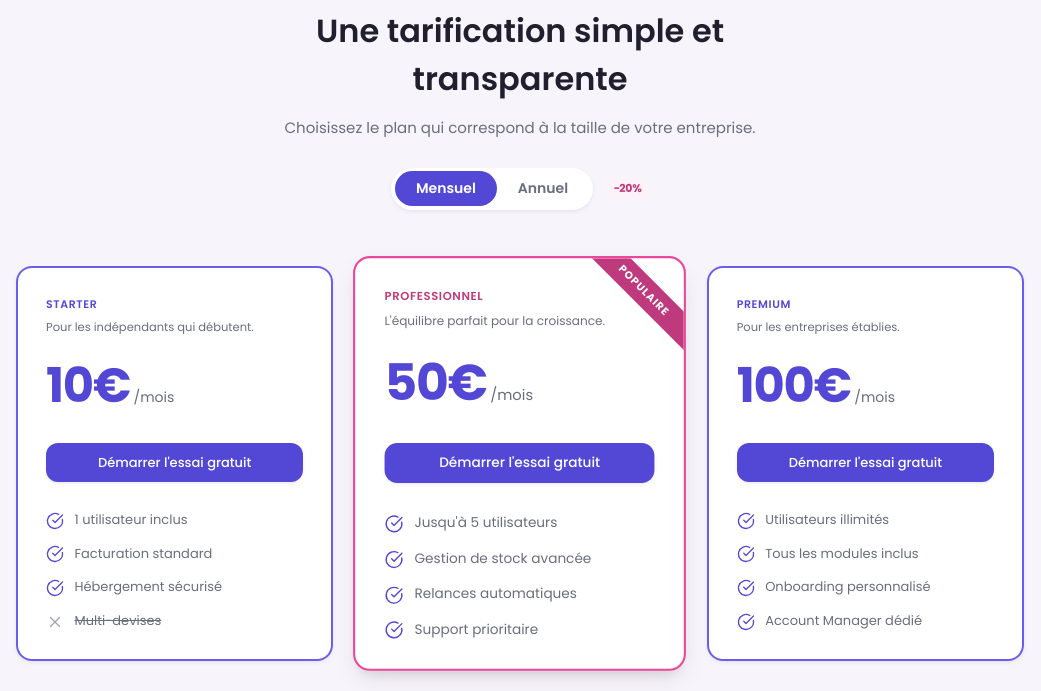
Pricing — bascule Mensuel / Annuel (US 4.2) › revient aux tarifs mensuels au clic sur « Mensuel »
Click the button "Annuel".
click(543, 188)  # box [497,171,589,206]
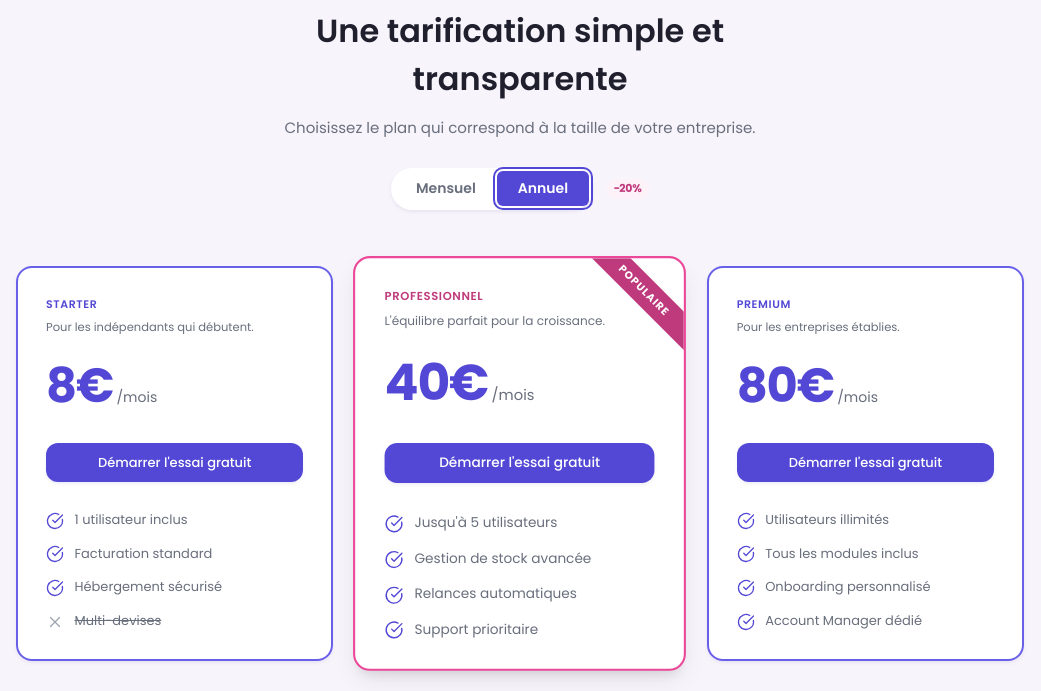
Click the button "Mensuel".
click(446, 188)  # box [395,171,497,206]
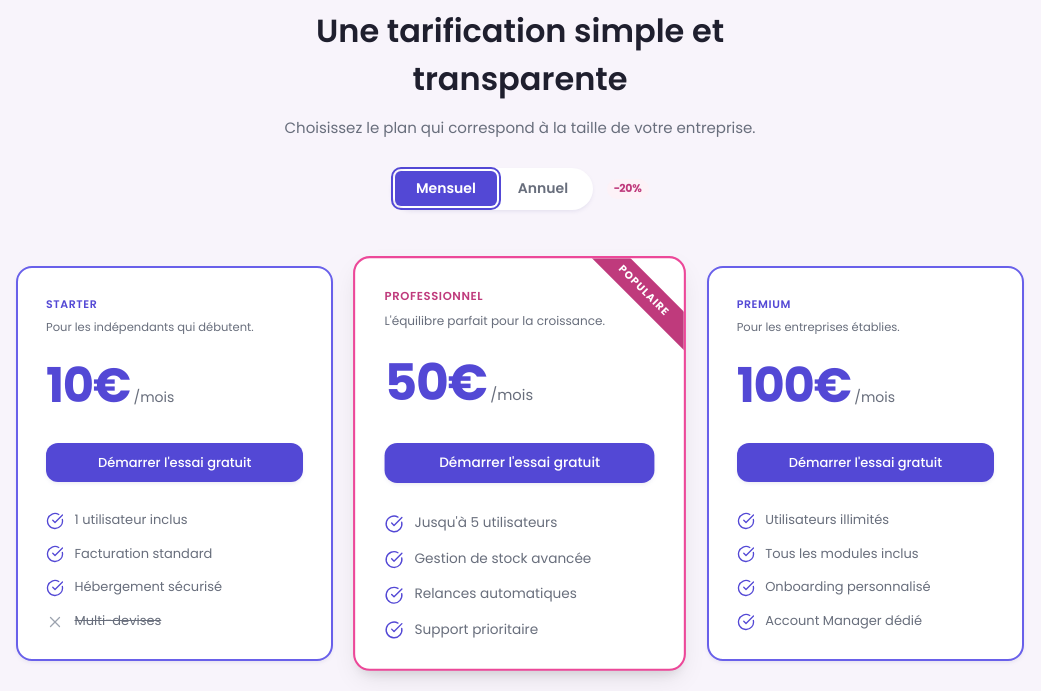
Expected: the text "10€" is shown, [46,350,130,422]
Expected: the text "50€" is shown, [385,345,487,420]
Expected: the text "100€" is shown, [737,350,851,422]
